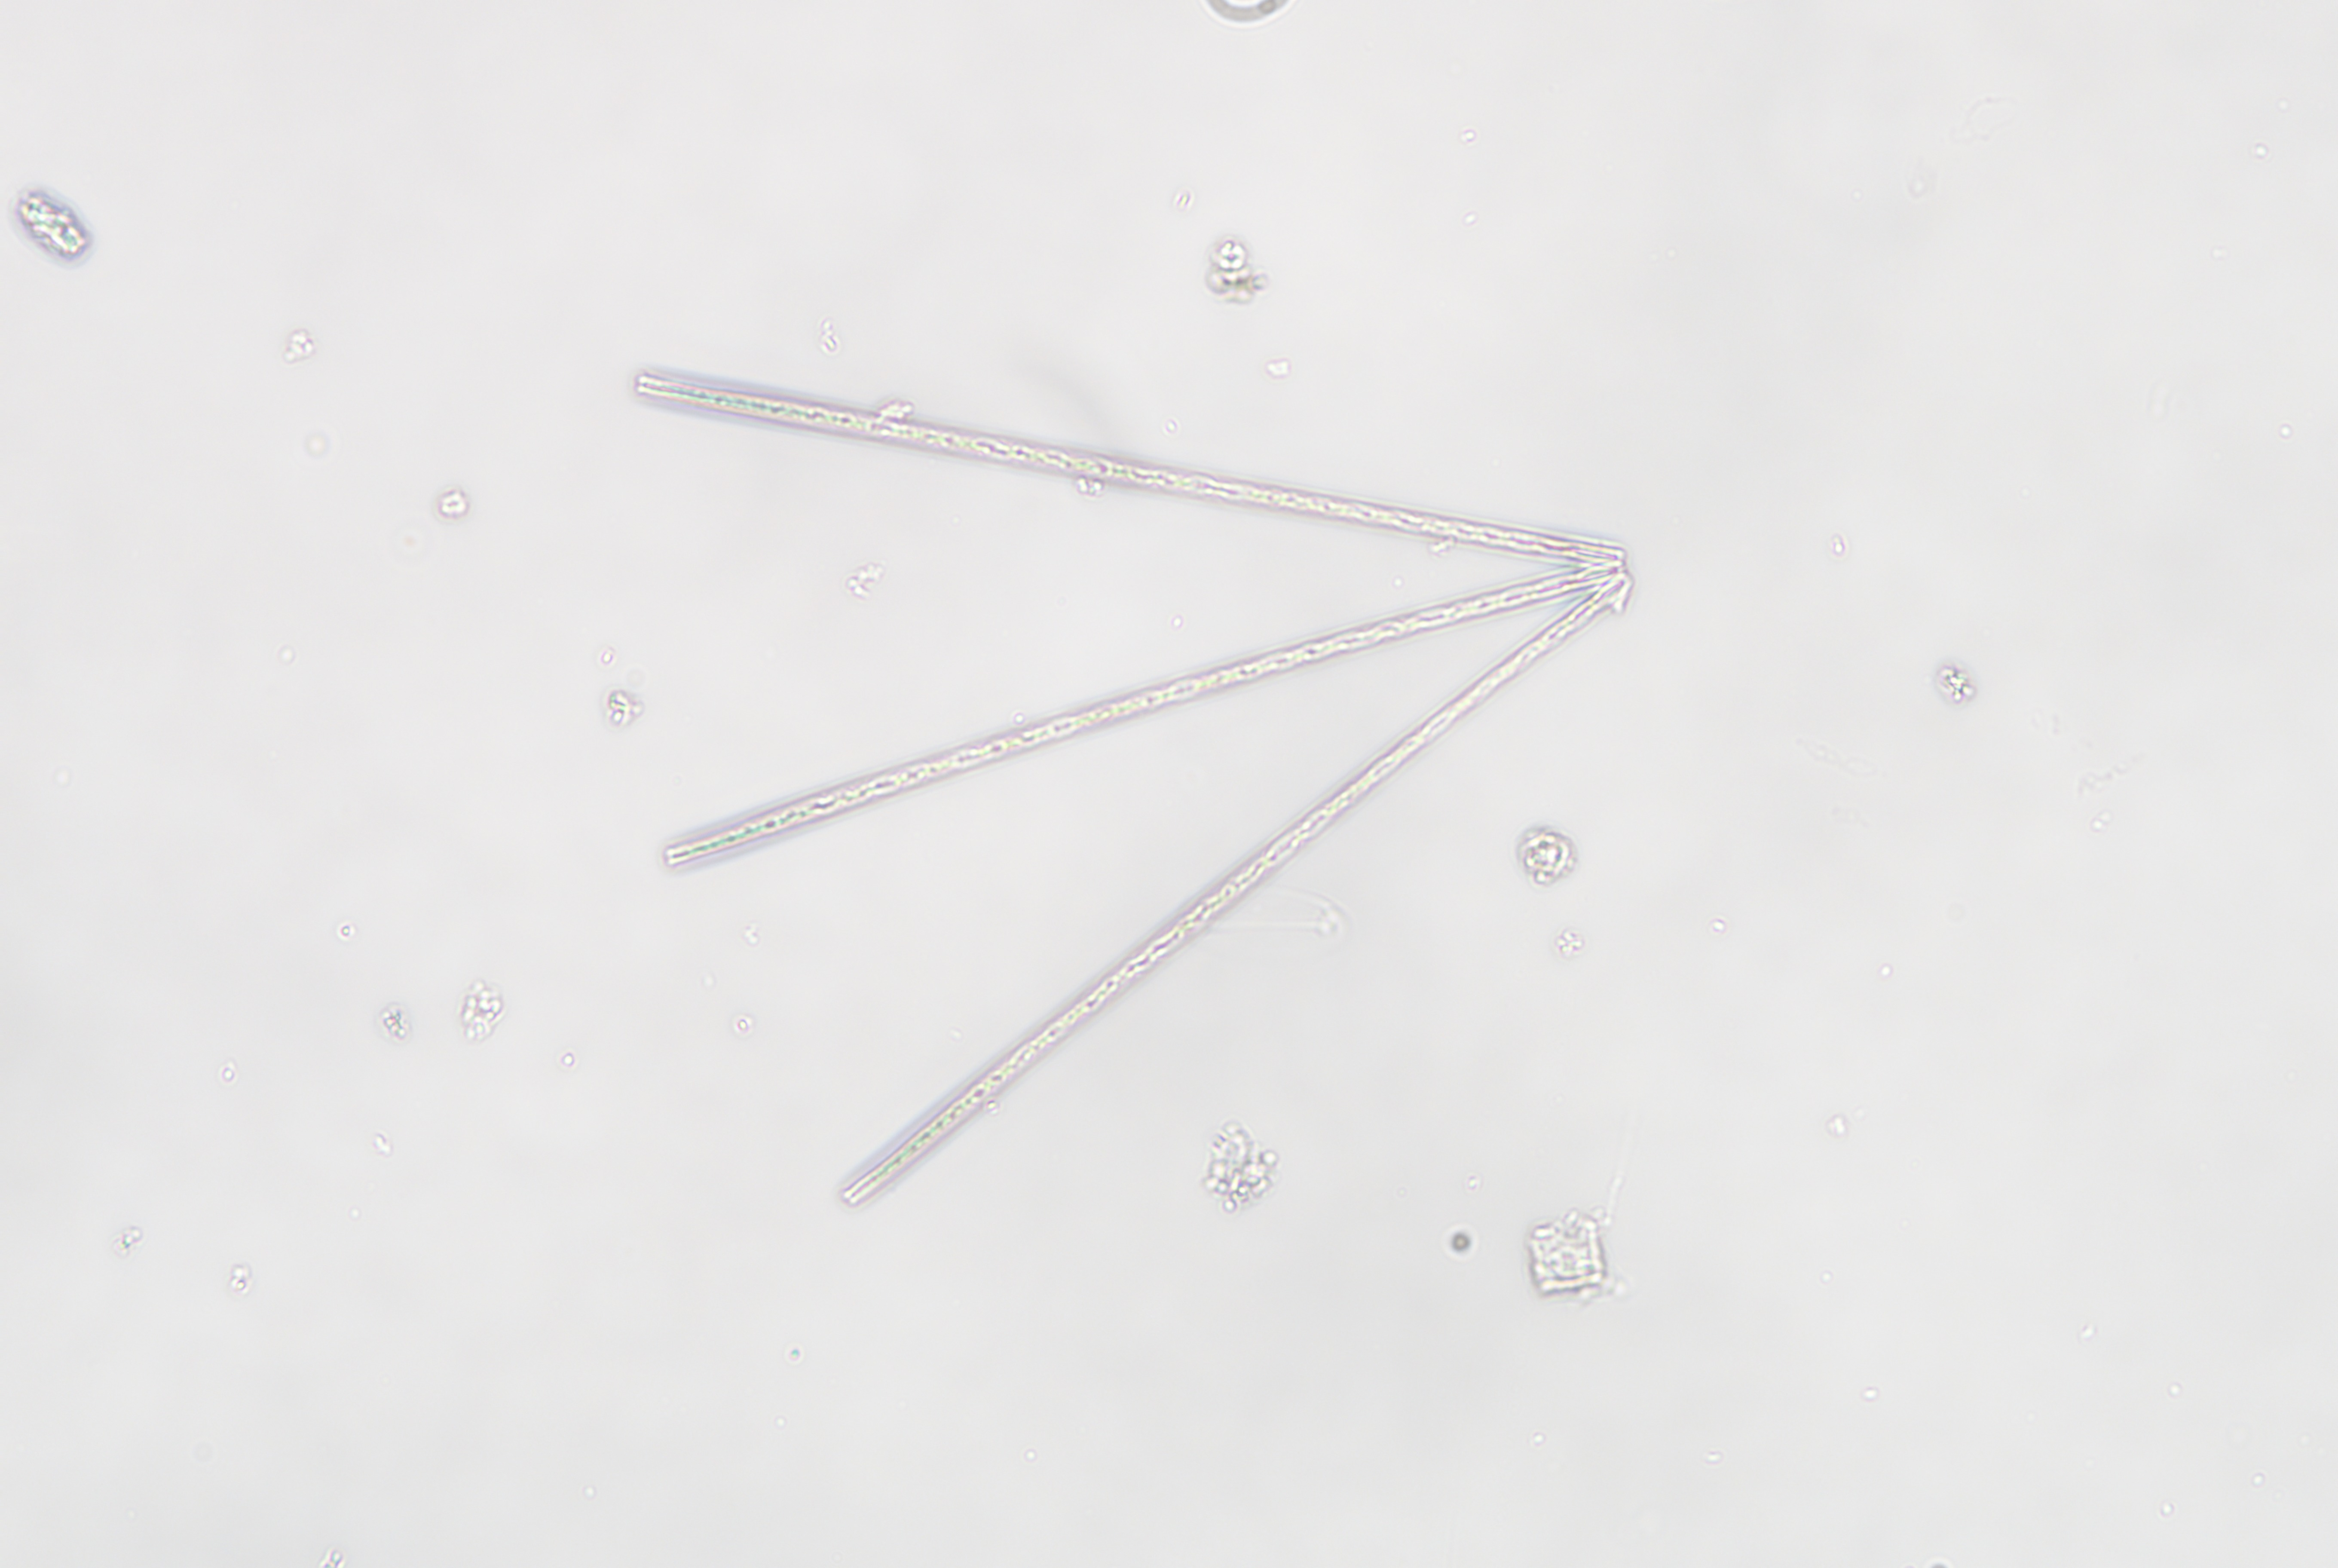thalassionema frauenfeldii: (635, 362, 1636, 1211)
